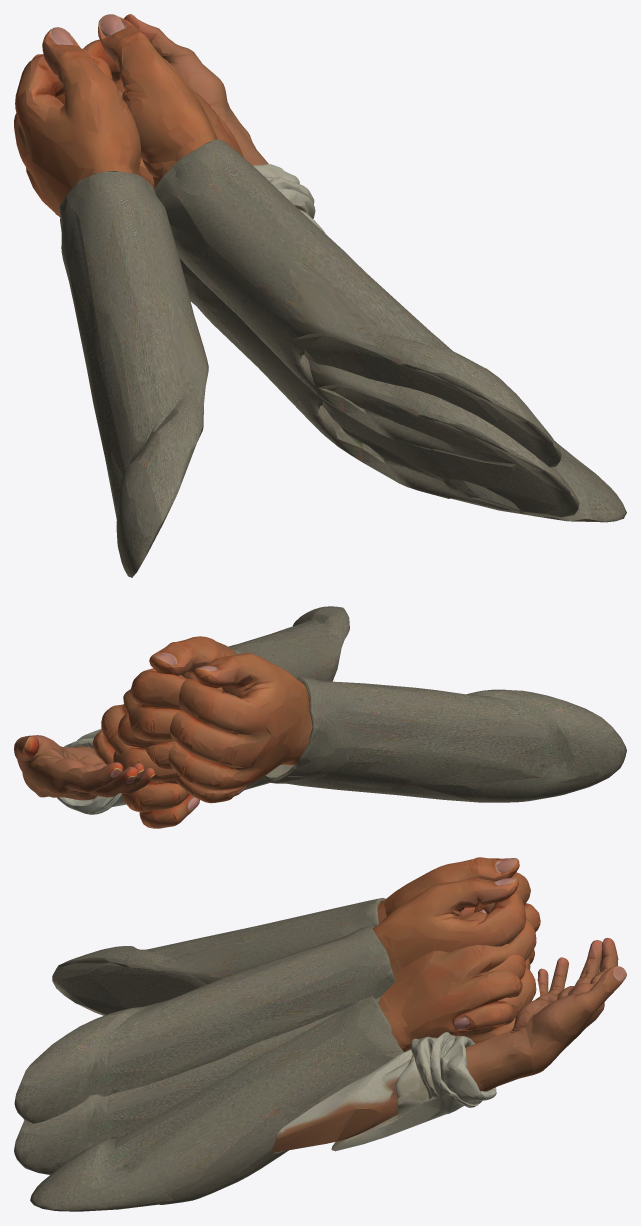
Rendered from hands.glb.
The picture shows the model from 3 angles, top to bottom: view 1: azimuth 30°, elevation 25°; view 2: azimuth 150°, elevation 25°; view 3: azimuth 270°, elevation 25°; orthographic projection. The views are drawn at different scales.
Visible parts, largest first — view 1: hand_crossbow, hand_lantern, hand_scatter, hand_cast, hand_fork; view 2: hand_lantern, hand_crossbow, hand_cast, hand_scatter, hand_fork; view 3: hand_fork, hand_crossbow, hand_cast, hand_lantern, hand_scatter.
Boxes of the visible parts, x1=… form: hand_crossbow: x1=83, y1=14, x2=561, y2=467; hand_lantern: x1=14, y1=27, x2=208, y2=577; hand_scatter: x1=114, y1=81, x2=579, y2=517; hand_cast: x1=32, y1=14, x2=325, y2=233; hand_fork: x1=115, y1=78, x2=626, y2=522; hand_lantern: x1=167, y1=653, x2=626, y2=803; hand_crossbow: x1=128, y1=606, x2=349, y2=784; hand_cast: x1=14, y1=729, x2=154, y2=814; hand_scatter: x1=113, y1=704, x2=270, y2=828; hand_fork: x1=92, y1=675, x2=222, y2=764; hand_fork: x1=30, y1=907, x2=522, y2=1211; hand_crossbow: x1=14, y1=877, x2=536, y2=1123; hand_cast: x1=271, y1=938, x2=626, y2=1153; hand_lantern: x1=52, y1=857, x2=540, y2=1015; hand_scatter: x1=14, y1=936, x2=536, y2=1174.
Size of the model in its own units: 0.3289 by 0.2114 by 0.4628.
2 materials, 2 textured.
